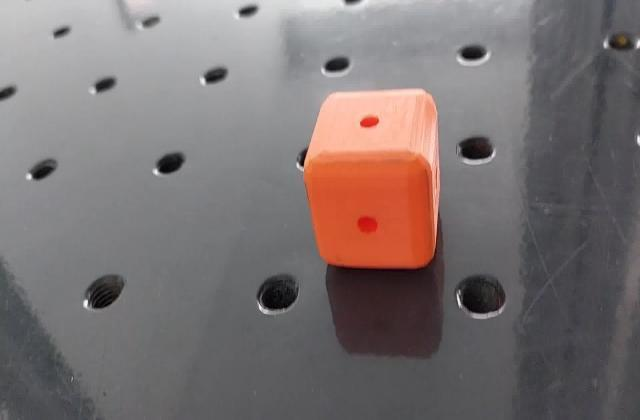cube: (300, 82, 446, 274)
